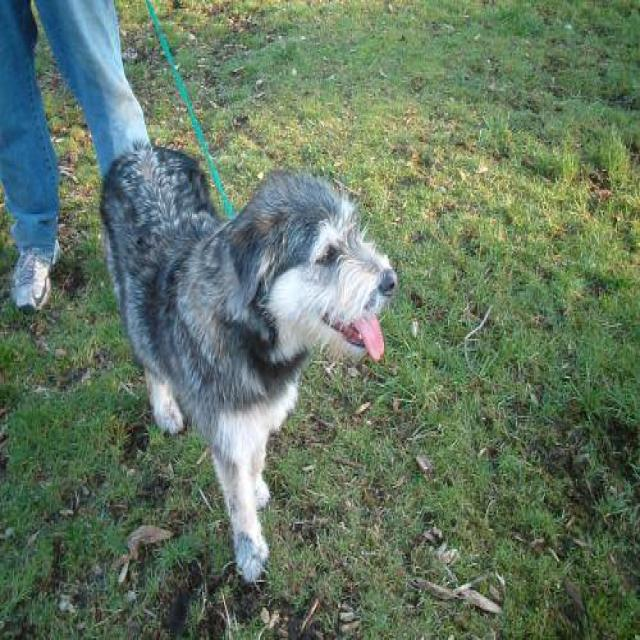dog: (97, 144, 398, 584)
